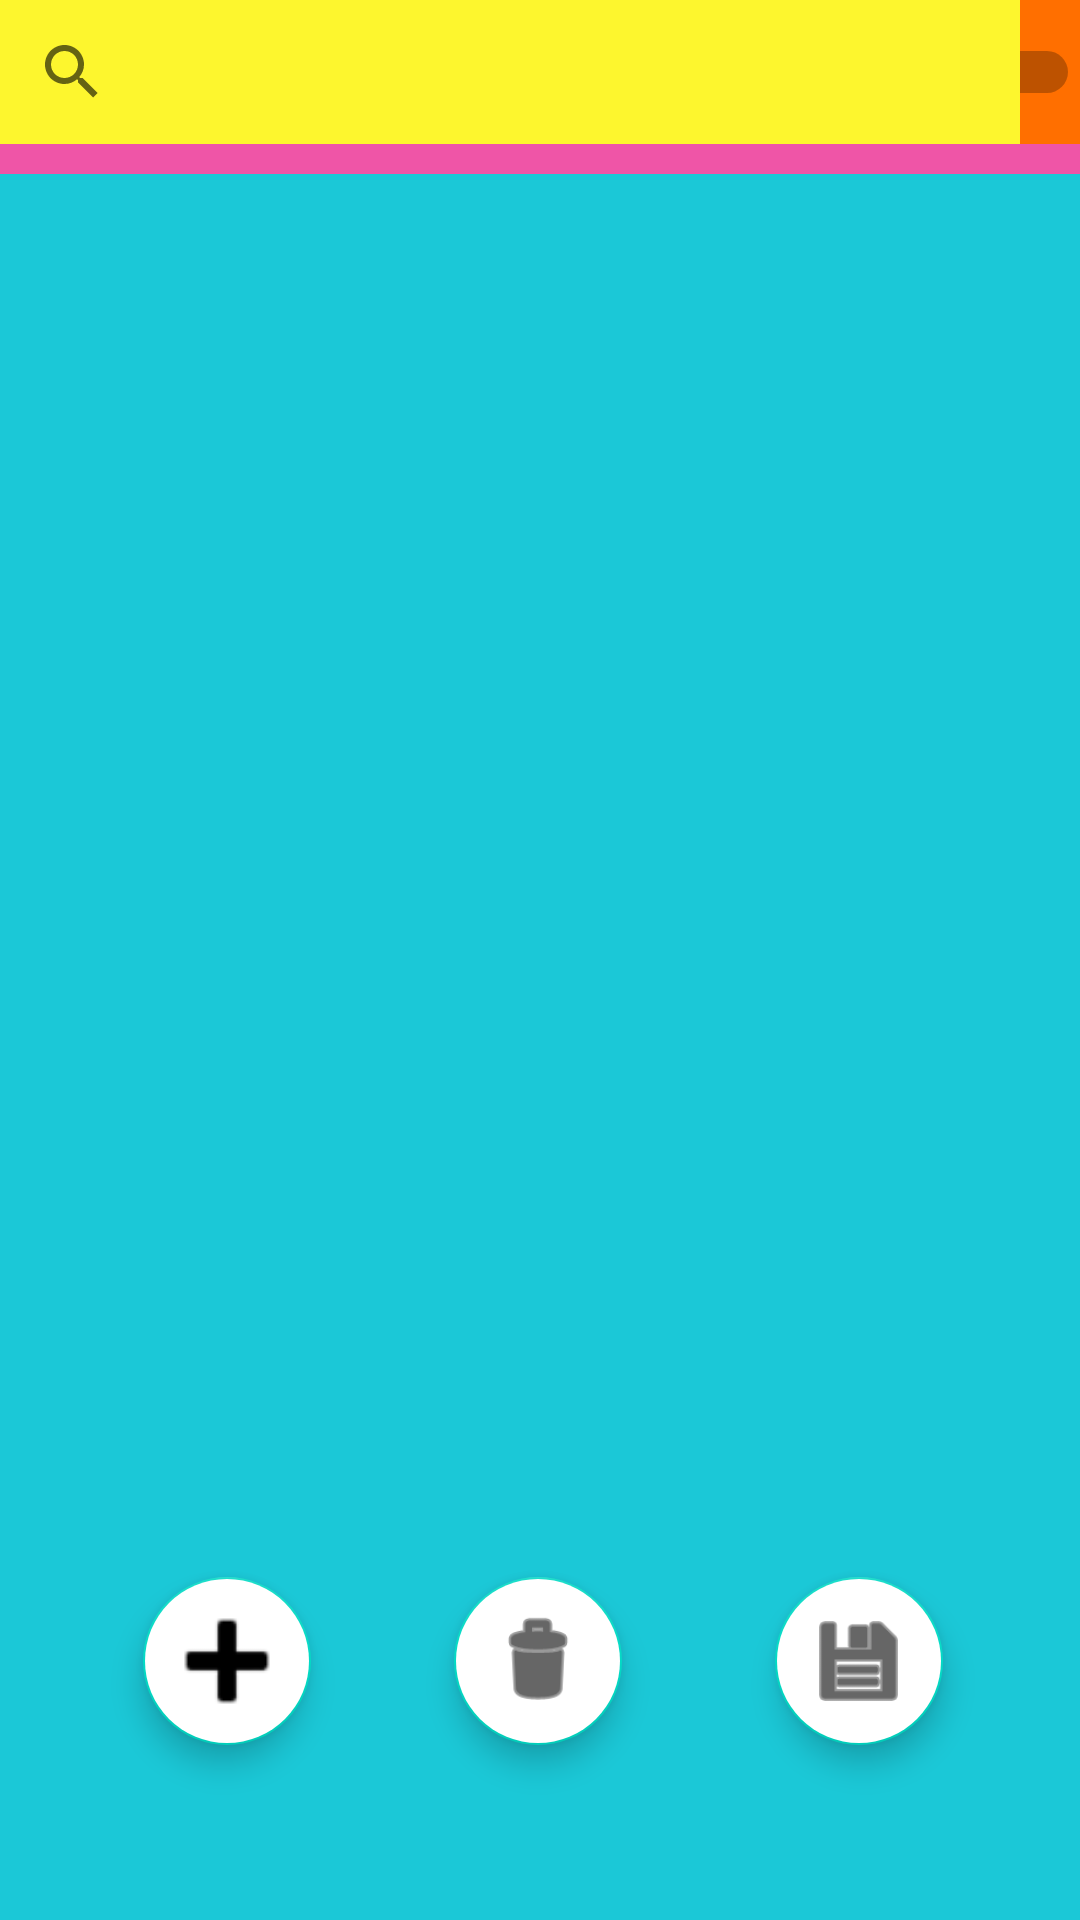

Named icons in this screenshot (1080*1920) and their bounding boxes, (x1, y1, x2, y2):
add: (145, 1577, 309, 1745)
delete: (456, 1577, 620, 1745)
save: (777, 1577, 941, 1745)
